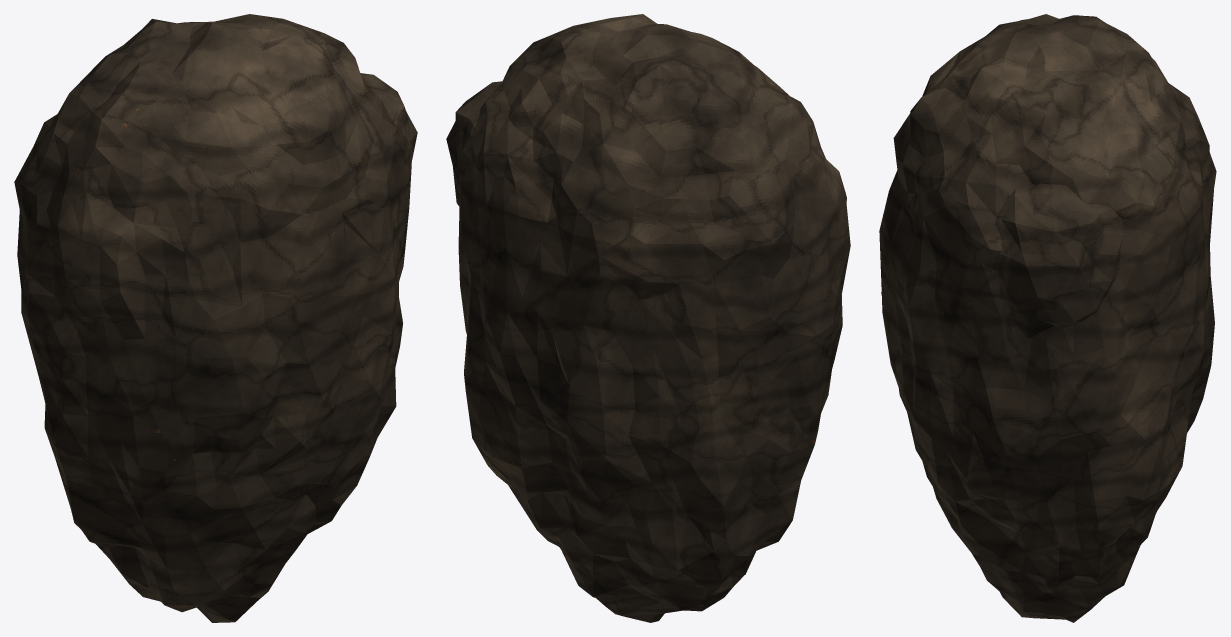
The model's file is ramp_rock_big_a.glb.
The picture shows the model from 3 angles, left to right: view 1: azimuth 30°, elevation 25°; view 2: azimuth 150°, elevation 25°; view 3: azimuth 270°, elevation 25°; orthographic projection.
Parts seen in each view (by area): view 1: ramp_rock_big_a; view 2: ramp_rock_big_a; view 3: ramp_rock_big_a.
Boxes of the visible parts, <box> form: ramp_rock_big_a: <box>14,14,417,622</box>; ramp_rock_big_a: <box>446,14,850,622</box>; ramp_rock_big_a: <box>879,14,1216,622</box>.
Bounding box in the file's own units: 2 × 2.98 × 1.54.
1 material, 1 textured.
